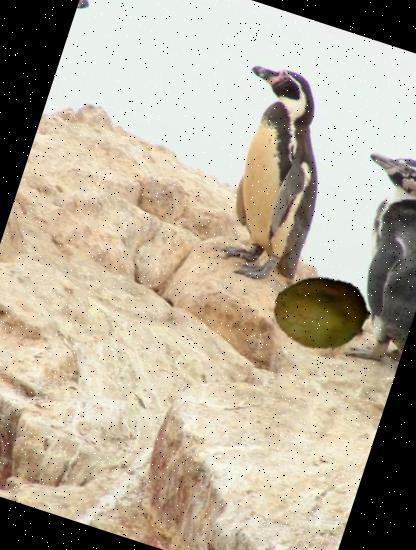Papaya: (262, 253, 379, 370)
